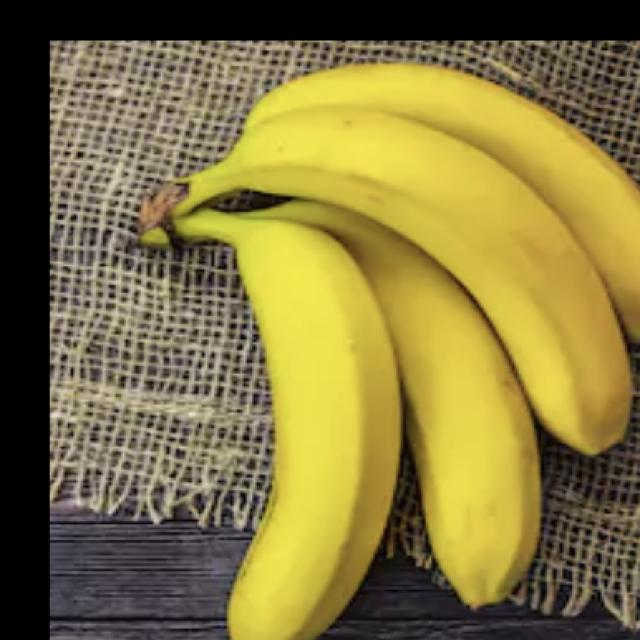god quality banana: (139, 65, 640, 639)
